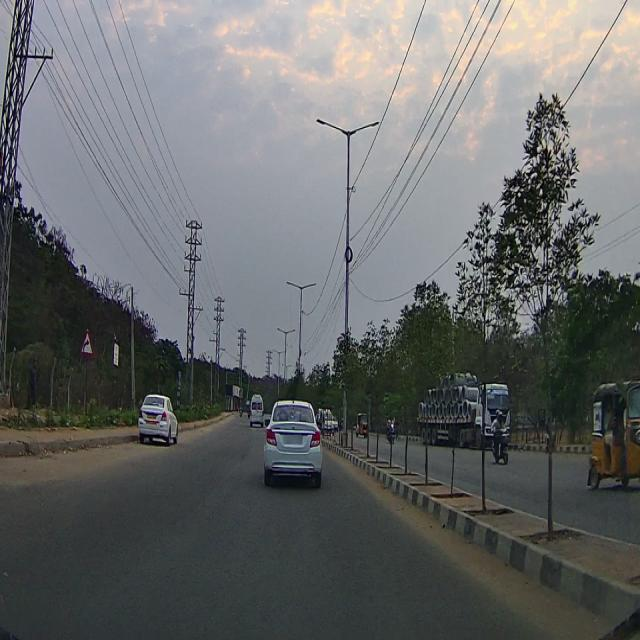right-hand-curve: (79, 329, 95, 359)
